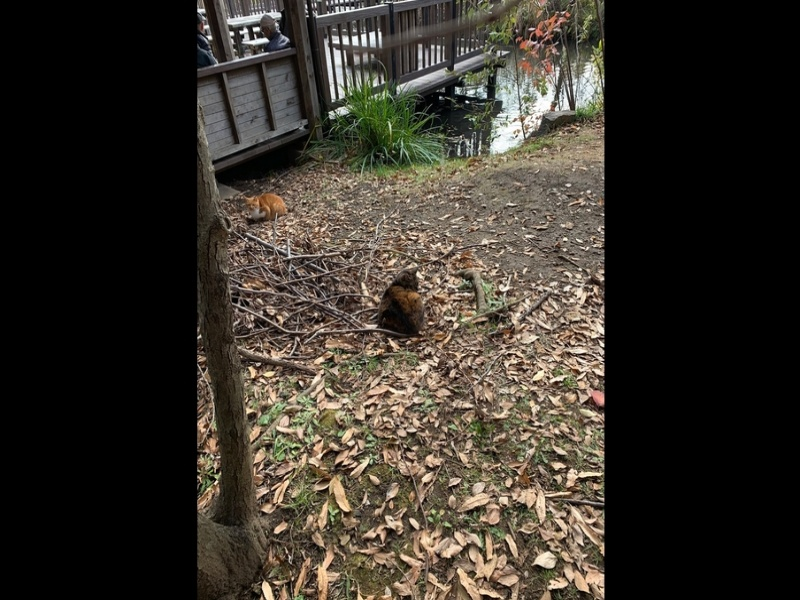cat: (375, 268, 429, 334), (241, 194, 289, 220)
